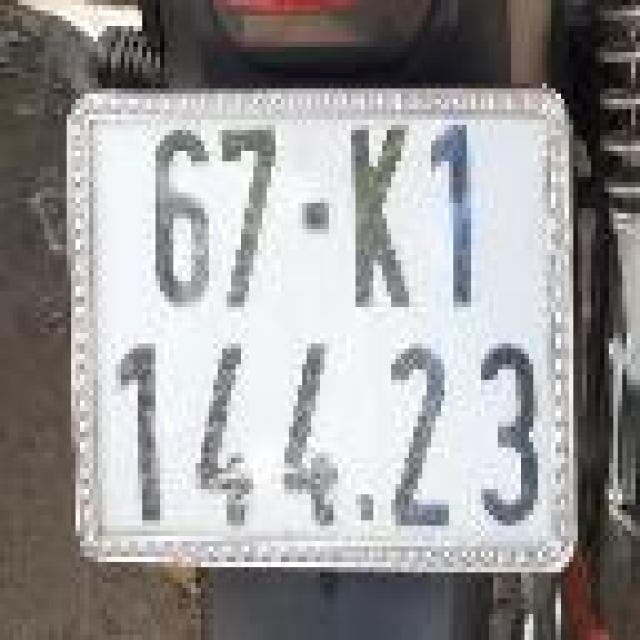1: (433, 112, 491, 315), (111, 336, 169, 528)
2: (382, 338, 453, 546)
3: (473, 338, 540, 531)
4: (196, 333, 266, 546), (274, 338, 344, 536)
6: (146, 127, 218, 320)
7: (220, 120, 287, 312)
K: (327, 104, 411, 323)
